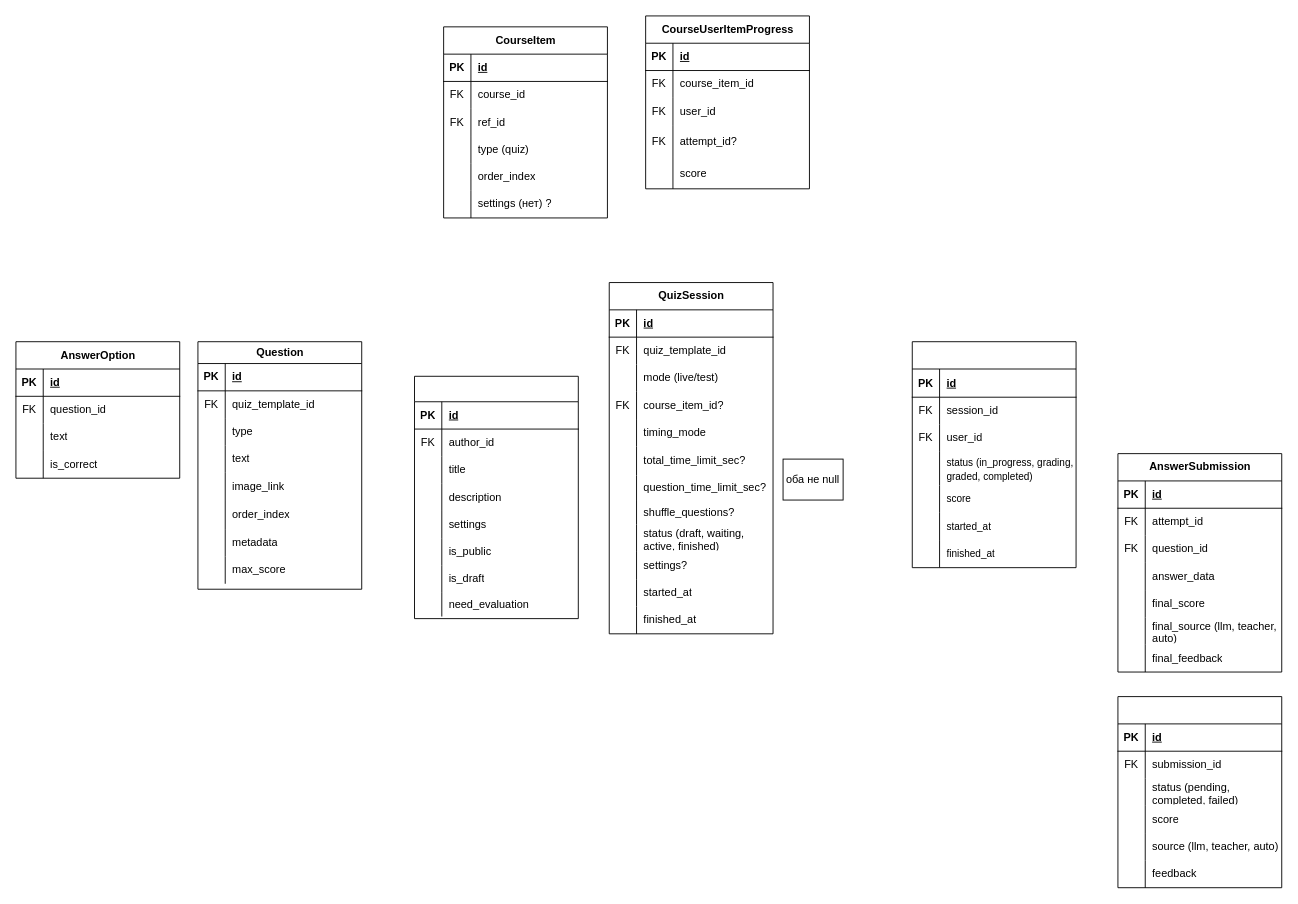
Some shapes in this 1298 by 904 pixel diagram are drawn without their labels. Here are the shapes that lost their labels. From the top down, the box of each, then its label:
(911, 341, 1076, 568): Attempt
(414, 375, 578, 619): QuizTemplate
(1117, 696, 1282, 888): AnswerEvalution
